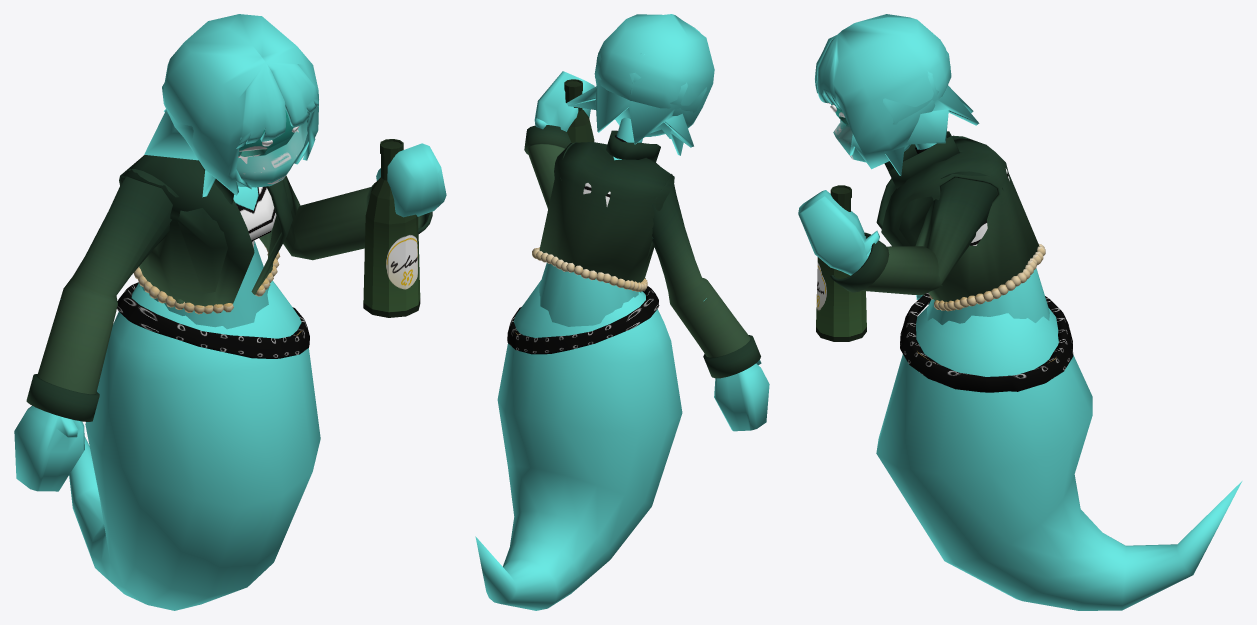
Rendered from DrunkGhostPose1 1.fbx.
3 renders of one model, left to right at view 1: azimuth 30°, elevation 25°; view 2: azimuth 150°, elevation 25°; view 3: azimuth 270°, elevation 25°, orthographic. The views are drawn at different scales.
Parts seen in each view (by area): view 1: Body, Clothes, Cylinder; view 2: Body, Clothes, Cylinder; view 3: Body, Clothes, Cylinder.
Part boxes in pixels (box(x1,y1,x2,y2)): Body: box(14, 14, 446, 610); Clothes: box(26, 155, 432, 421); Cylinder: box(363, 139, 420, 317); Body: box(475, 14, 769, 610); Clothes: box(507, 125, 760, 378); Cylinder: box(564, 79, 594, 142); Body: box(798, 14, 1242, 610); Clothes: box(830, 131, 1073, 392); Cylinder: box(816, 185, 866, 341).
Size of the model in its own units: 425 by 758 by 531.
3 materials, 3 textured.
